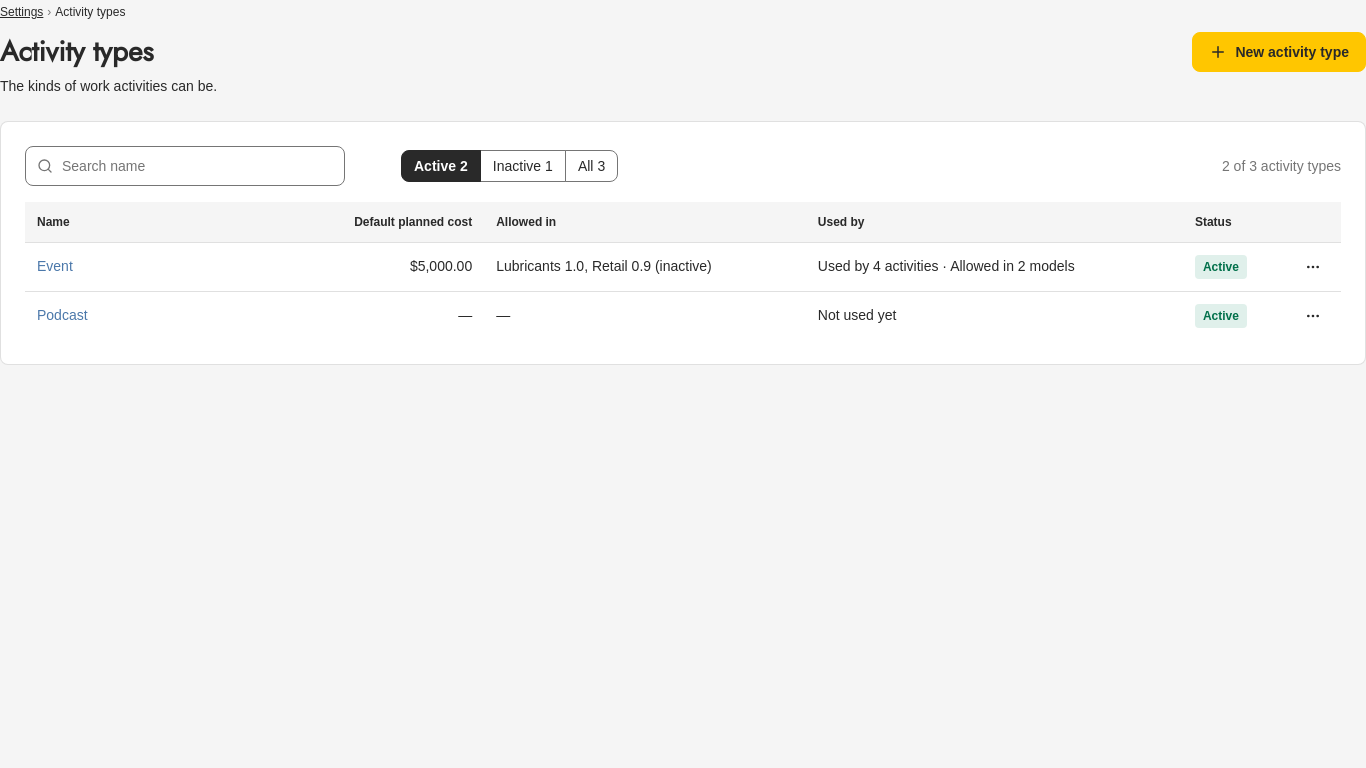
ActivityTypesPage: status and delete (US5 scenario 5, FR-004) › switches to the in-use dialog when the API finds the type in use
The width and height of the screenshot is (1366, 768).
Expected: the table is shown, [25,202,1341,340]
Click the button named "Actions for Podcast" at (1313, 316), box [1297,300,1329,332]
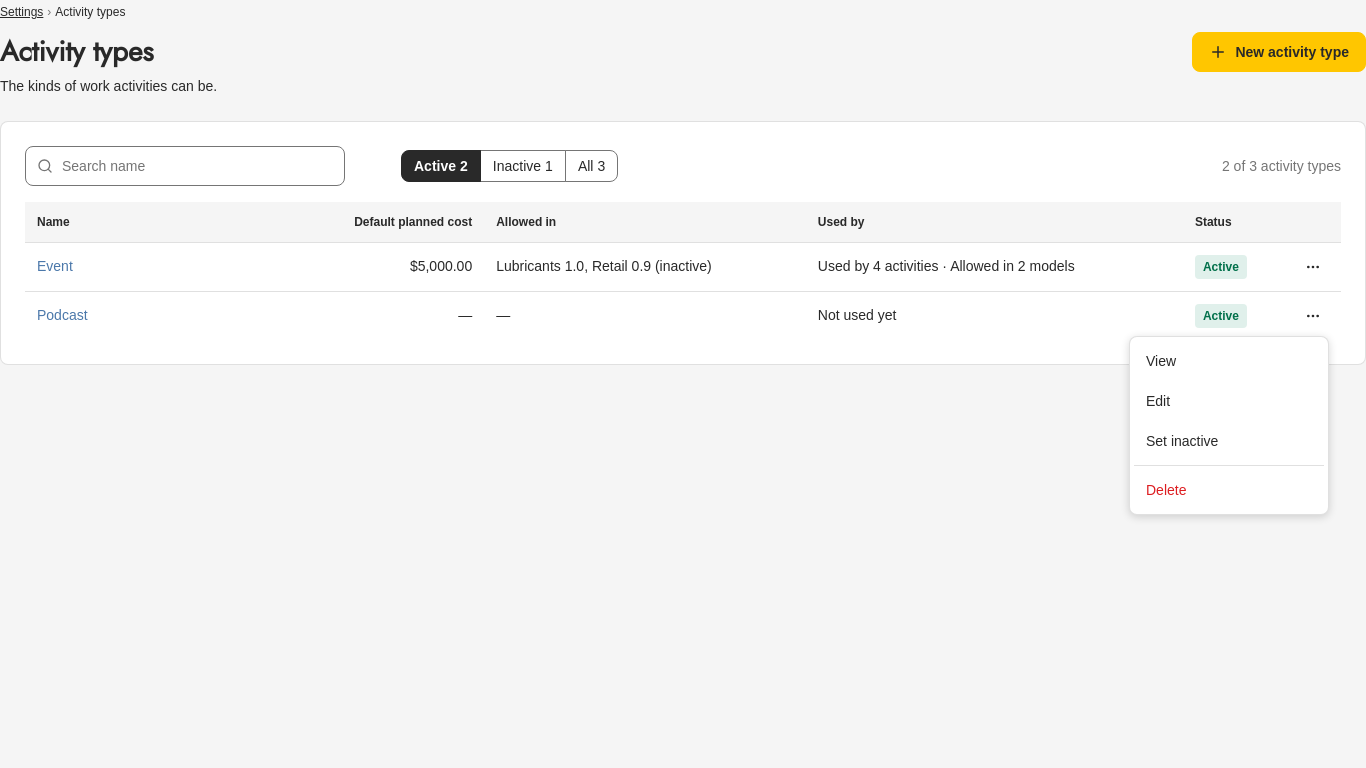
Click the menu item "Delete" at (1166, 490), box [1146,482,1186,498]
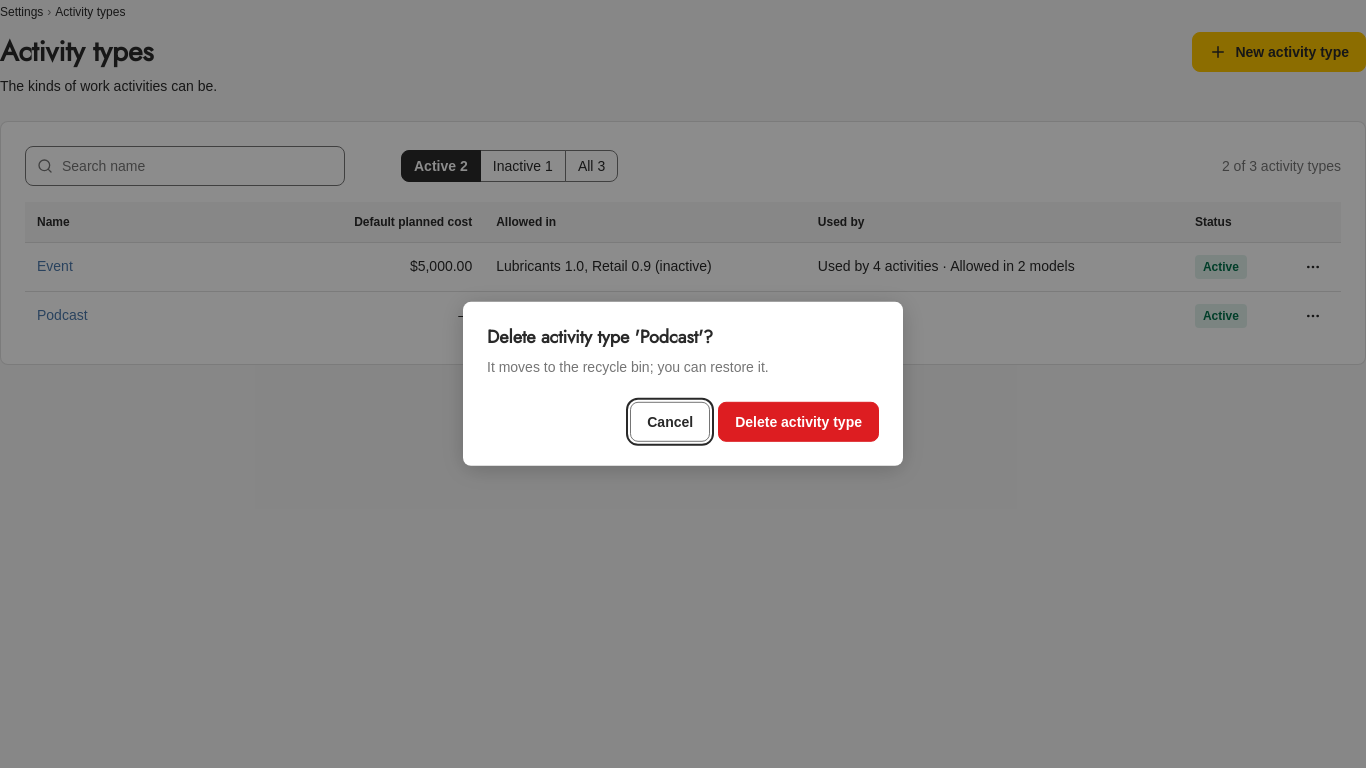
Click the button "Delete activity type" at (799, 422), box [718,402,879,442]
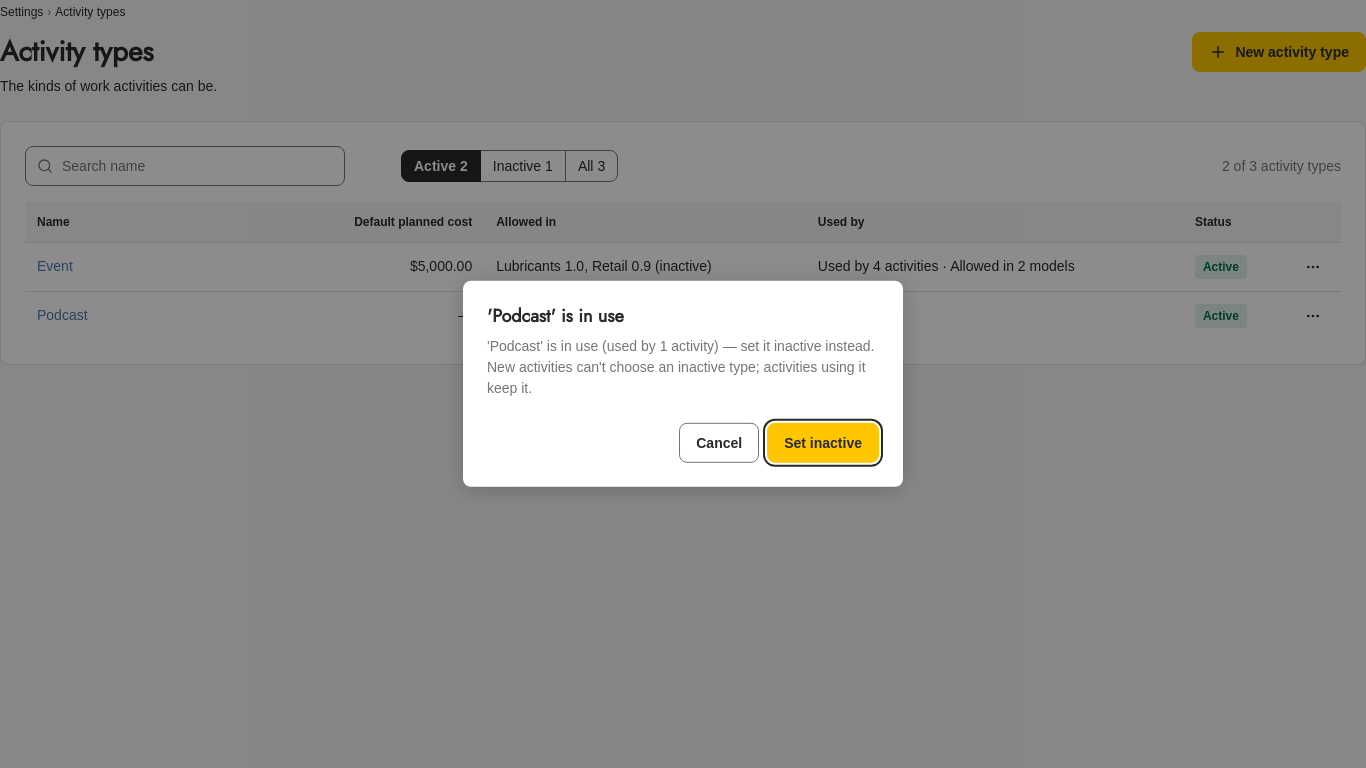
Expected: the dialog "'Podcast' is in use" shows "'Podcast' is in use (used by 1 activity) — set it inactive instead.", [487,338,874,396]
